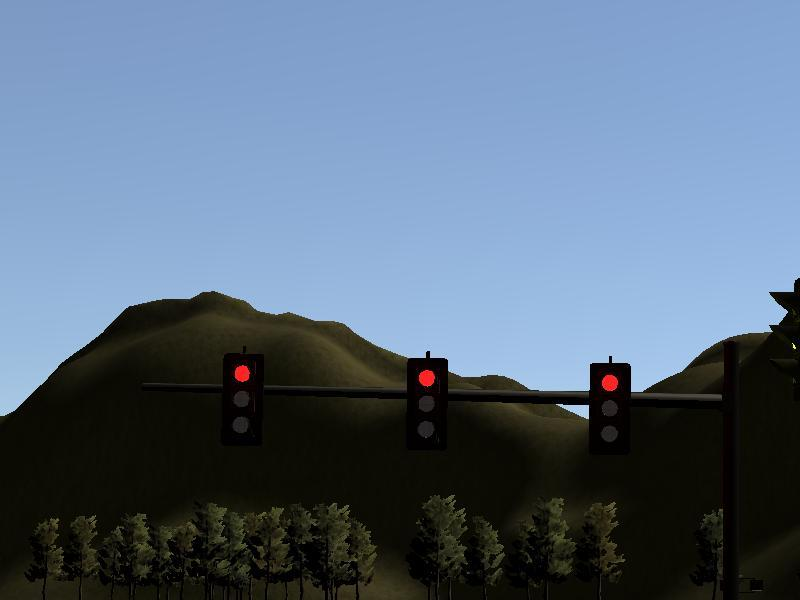Red: (406, 358, 448, 450), (221, 352, 262, 444), (591, 363, 630, 459)
